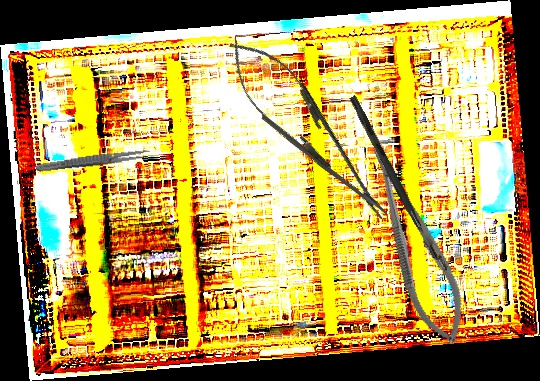Dressing Forceps: (35, 146, 151, 175)
Hook Surgical: (347, 95, 441, 260)
Needle Holder: (211, 25, 405, 236), (355, 139, 478, 352)
